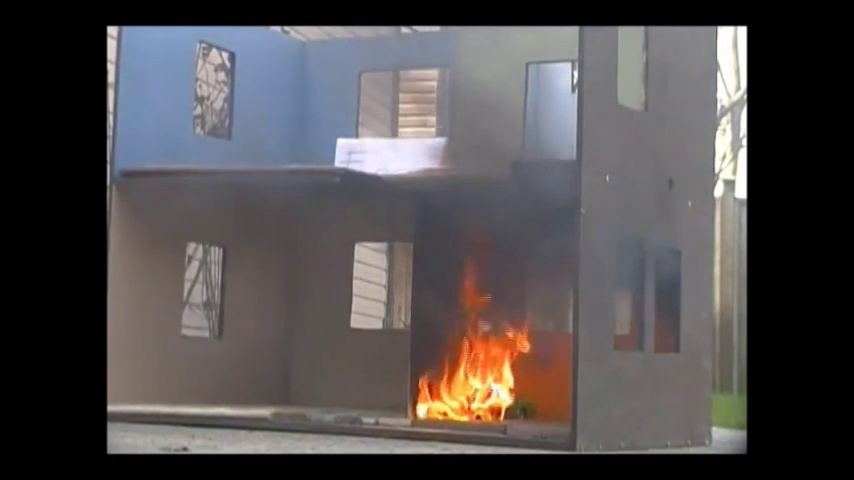fire: (408, 318, 529, 427)
